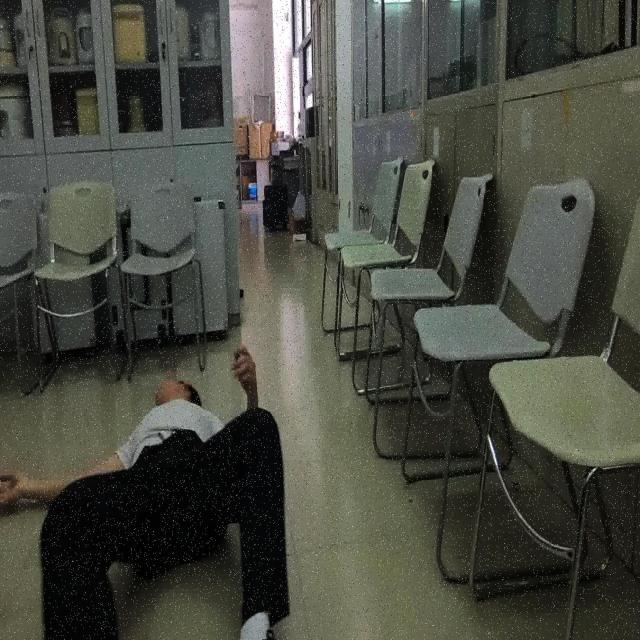fall: (0, 339, 296, 639)
